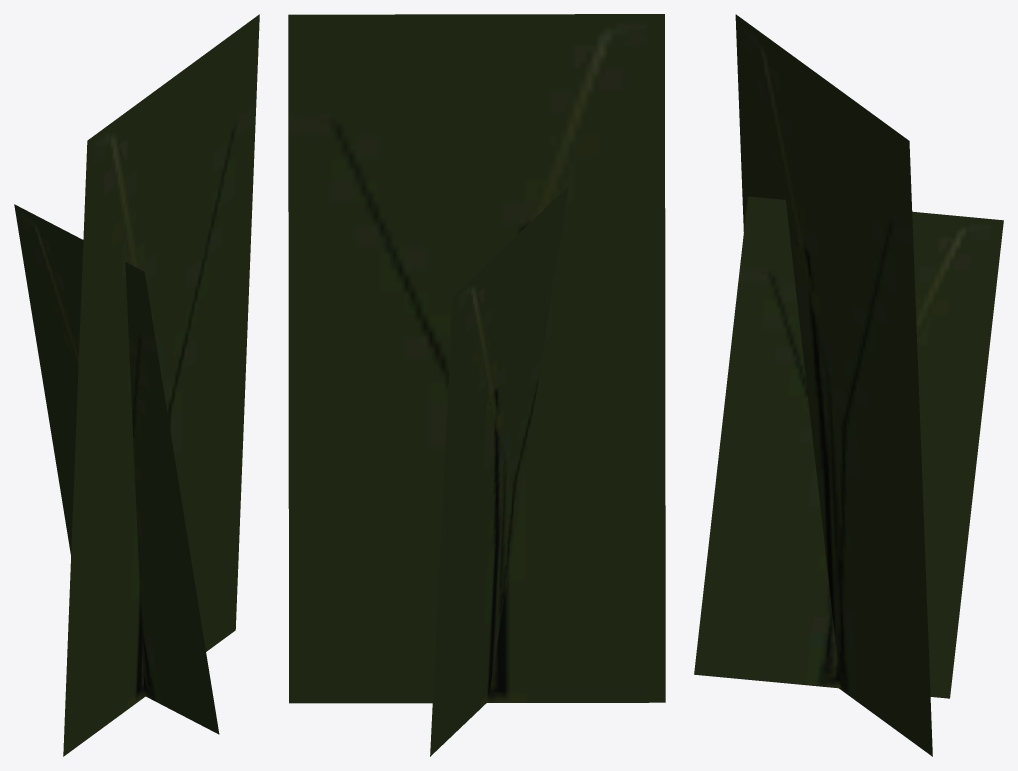
The model's file is swmp_shor_cattail_blue_med_l2.fbx.
3 renders of one model, left to right at view 1: azimuth 30°, elevation 25°; view 2: azimuth 150°, elevation 25°; view 3: azimuth 270°, elevation 25°, orthographic. The views are drawn at different scales.
Parts seen in each view (by area): view 1: mesh_node; view 2: mesh_node; view 3: mesh_node.
Boxes of the visible parts, x1=… form: mesh_node: x1=14, y1=14, x2=259, y2=756; mesh_node: x1=288, y1=14, x2=665, y2=756; mesh_node: x1=694, y1=14, x2=1003, y2=756.
Size of the model in its own units: 1.2 by 2.67 by 1.19.
